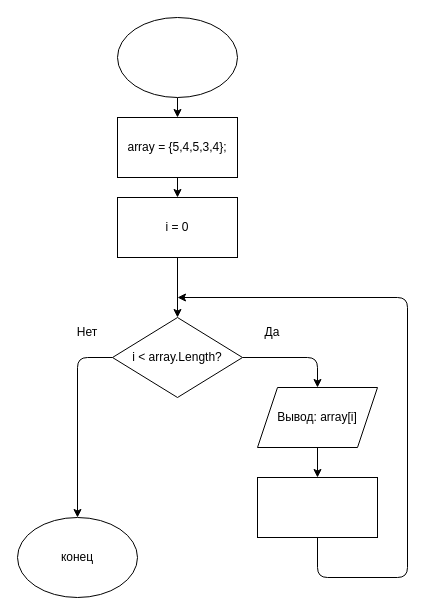
Image size: 433x615. Some labels were removed from this diagram. The shapes that lost their labels are listed below. From the top down, each one's centre as x and y in pixels, then its label:
(x=177, y=57): начало
(x=317, y=507): i = i + 1
